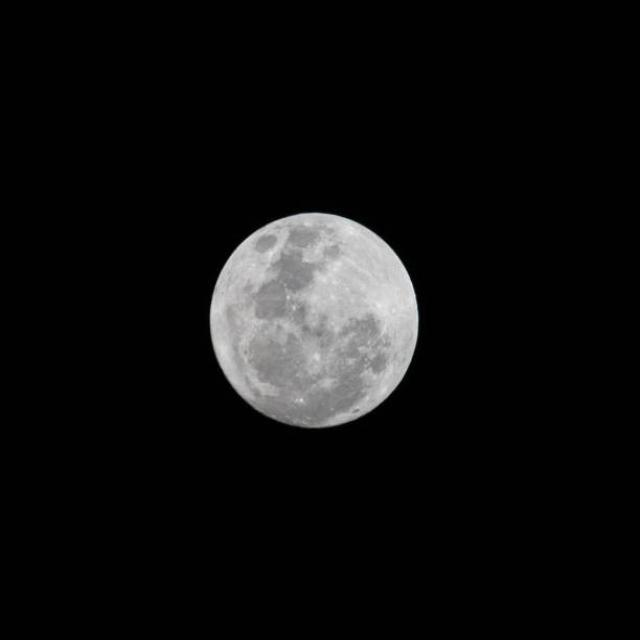moon: (196, 207, 422, 432)
